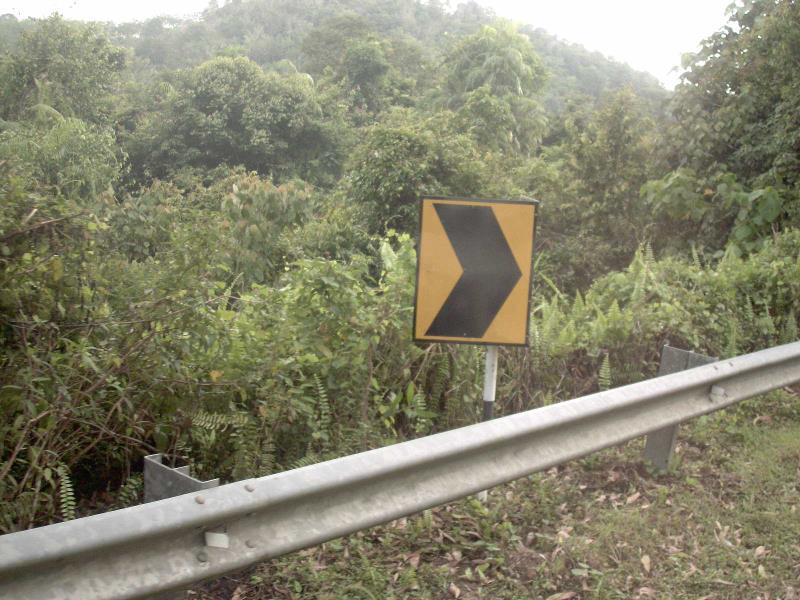traffic_sign: (397, 179, 552, 363)
